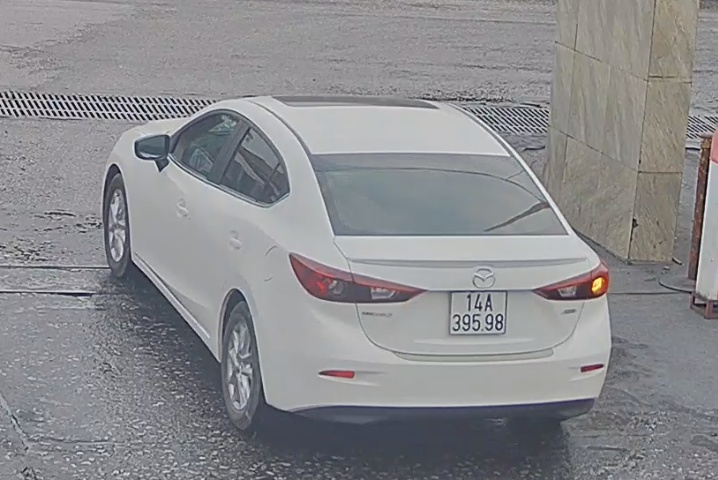vehicle plate: (448, 283, 509, 340)
